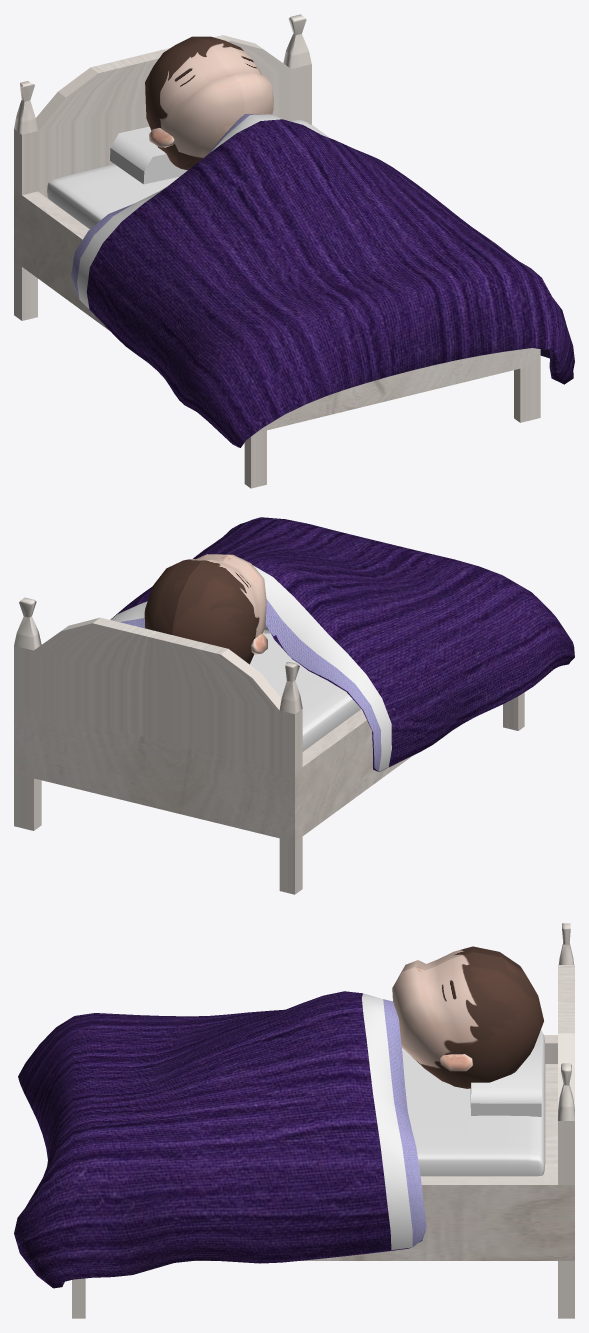
File: Boy_Sleeping 1.fbx
3 views of the same model, one above another, from view 1: azimuth 30°, elevation 25°; view 2: azimuth 150°, elevation 25°; view 3: azimuth 270°, elevation 25° (orthographic). The views are drawn at different scales.
Visible parts, largest first — view 1: pPlane1, polySurface2, boy2, polySurface1, polySurface3; view 2: polySurface2, pPlane1, boy2, polySurface1; view 3: pPlane1, polySurface2, boy2, polySurface1, polySurface3.
Part boxes in pixels (x1,y1,x2,y2): pPlane1: (71, 114, 574, 447); polySurface2: (14, 14, 540, 488); boy2: (145, 36, 273, 170); polySurface1: (47, 120, 327, 228); polySurface3: (110, 126, 187, 184); polySurface2: (14, 597, 524, 894); pPlane1: (110, 517, 574, 771); boy2: (144, 554, 269, 664); polySurface1: (250, 633, 361, 751); pPlane1: (14, 991, 426, 1288); polySurface2: (72, 923, 574, 1318); boy2: (392, 946, 543, 1088); polySurface1: (402, 1030, 545, 1176); polySurface3: (470, 1032, 541, 1116).
Bounding box in the file's own units: 3.77 × 2.75 × 4.8.
